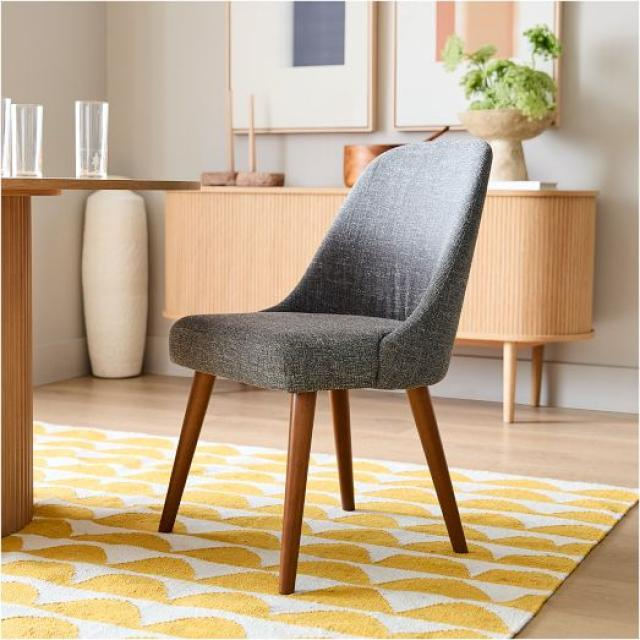chair: (87, 93, 543, 606)
